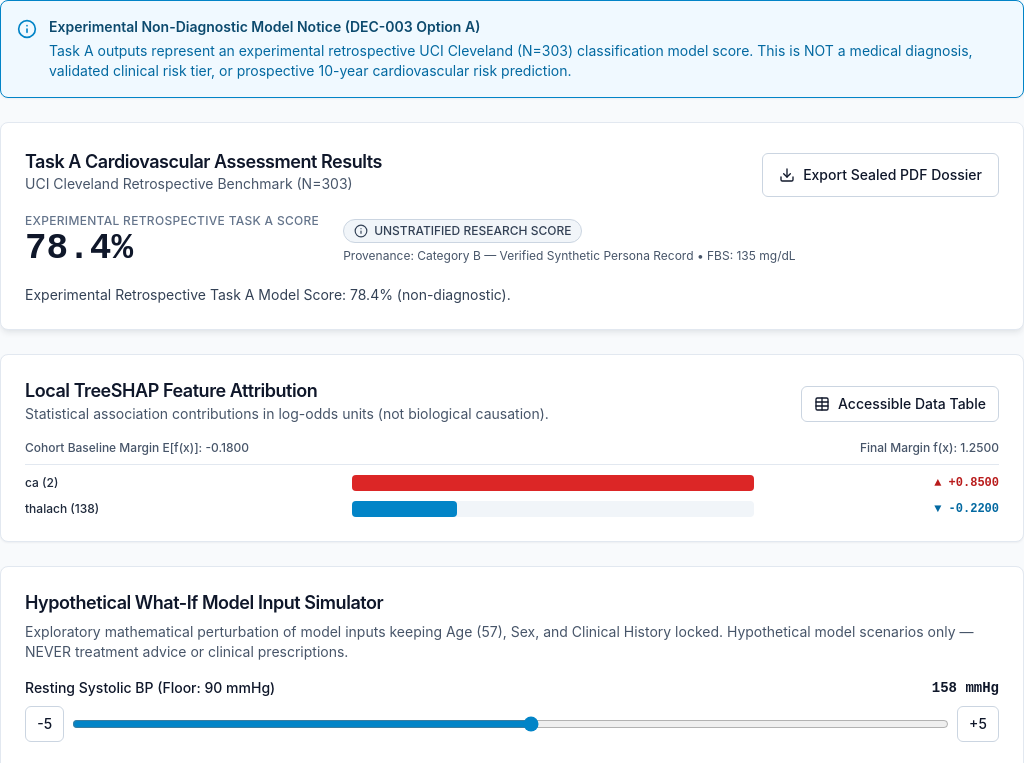
Scenario: Milestone 12-14: Results Dashboard, SHAP Waterfall & Counterfactual Simulator › renders Task A results without Task B claims, toggles SHAP table, and passes axe
expect the text "78.4%" is shown: met, box [25,228,133,269]
expect the text "prospective 10-year cardiovascular risk prediction" is shown: met, box [49,42,973,79]
Click the button "Accessible Data Table" at (900, 404), box [801,386,999,422]
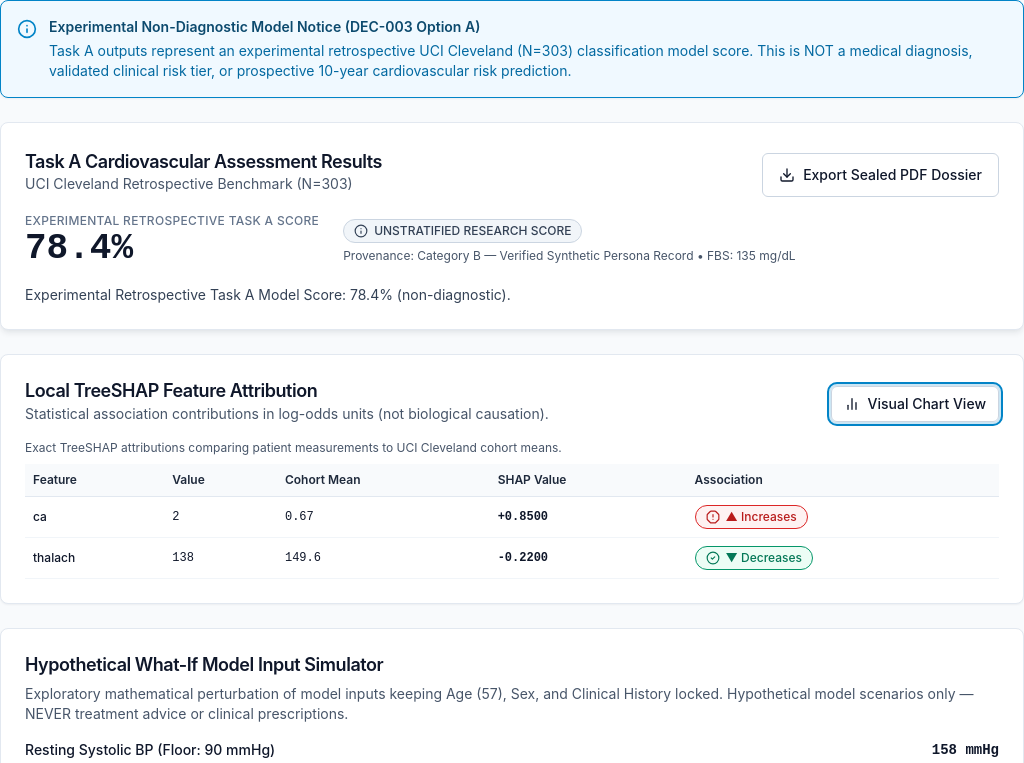
expect the table is shown: met, box [25,440,999,579]
